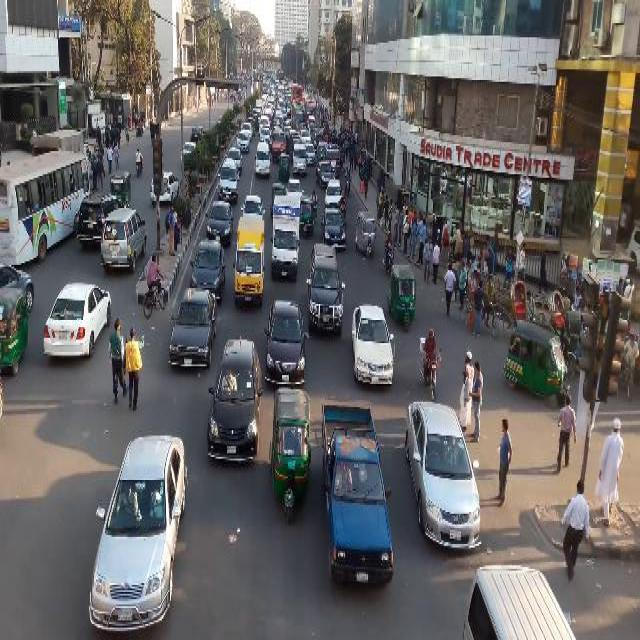bike: (419, 326, 442, 401), (382, 231, 397, 277), (135, 146, 143, 180)
vehicle: (88, 431, 188, 634), (322, 402, 396, 581), (405, 396, 483, 552), (1, 151, 94, 272), (459, 564, 581, 637), (208, 334, 262, 468), (268, 382, 314, 530), (501, 319, 573, 405), (42, 279, 113, 359), (266, 300, 309, 392), (307, 242, 346, 332), (77, 189, 129, 250), (31, 129, 94, 179), (100, 209, 148, 273), (233, 216, 266, 309), (461, 266, 501, 340), (1, 284, 32, 376), (271, 192, 301, 283), (388, 263, 418, 333), (504, 280, 542, 334), (205, 199, 233, 244), (355, 210, 377, 261), (546, 289, 570, 335), (217, 158, 240, 203), (151, 171, 179, 205), (322, 208, 346, 247), (110, 170, 132, 205), (241, 194, 267, 220), (271, 129, 289, 165), (255, 141, 272, 177), (316, 159, 337, 188), (324, 180, 344, 210), (292, 141, 308, 177), (302, 197, 315, 239), (270, 183, 287, 215), (325, 143, 341, 175), (291, 99, 307, 131), (287, 177, 305, 198), (305, 94, 318, 121), (279, 152, 291, 181), (182, 141, 197, 160), (236, 132, 251, 151), (190, 126, 204, 144), (258, 114, 271, 133), (258, 127, 271, 145), (292, 84, 304, 103), (241, 123, 253, 139), (247, 118, 256, 136), (300, 130, 312, 142), (275, 111, 284, 127), (308, 115, 317, 129), (253, 108, 262, 122), (276, 83, 284, 97), (264, 109, 272, 121), (256, 99, 265, 109), (279, 108, 288, 118), (233, 101, 241, 111)
